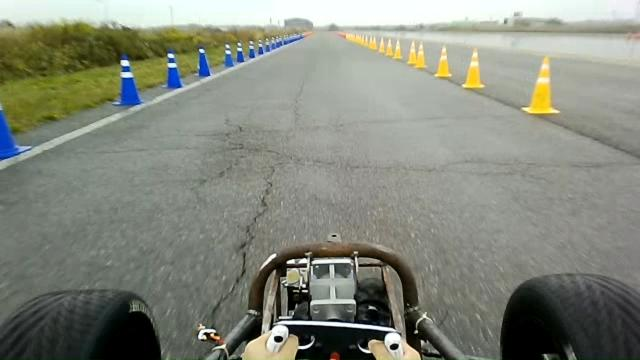blue cone: (111, 53, 142, 106), (161, 49, 183, 89), (196, 47, 211, 77), (223, 43, 234, 67), (236, 40, 245, 62)
yellow cone: (521, 56, 560, 115), (461, 47, 485, 89), (434, 45, 452, 78), (414, 40, 426, 68), (393, 39, 402, 59)
